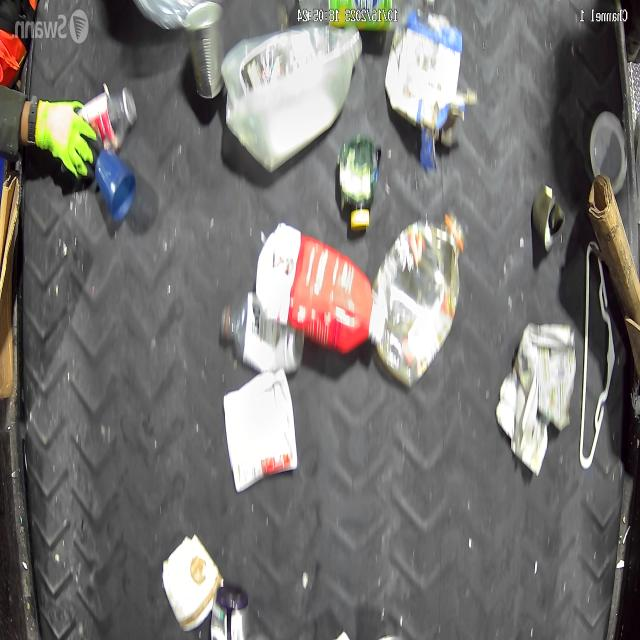can: (187, 0, 225, 99), (531, 187, 567, 252)
milk_jug: (220, 26, 364, 172)
non_white_jug: (277, 223, 383, 358)
plastic_bottle: (372, 207, 465, 386)
